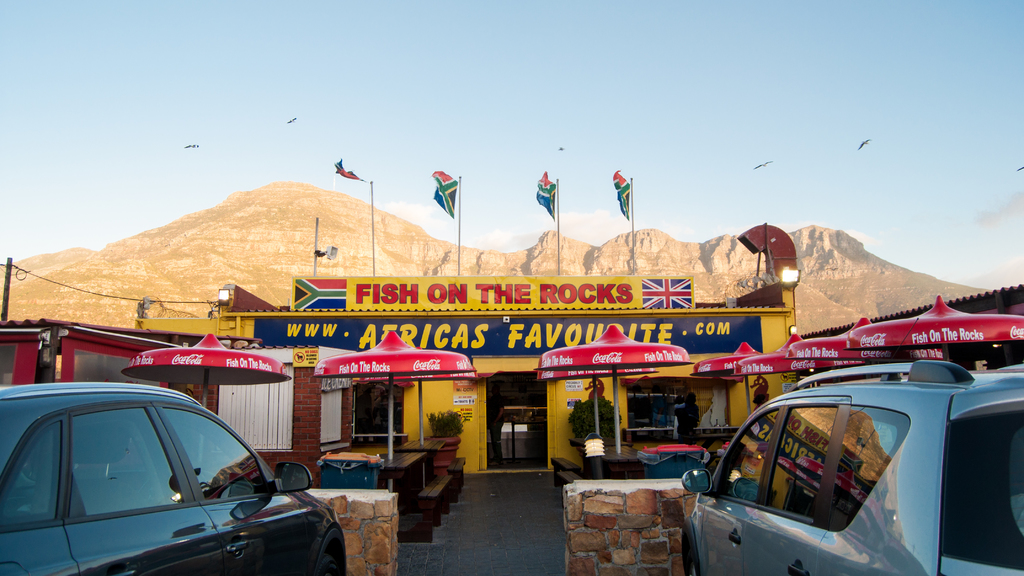Car: (683, 362, 1023, 575), (0, 382, 343, 576)
